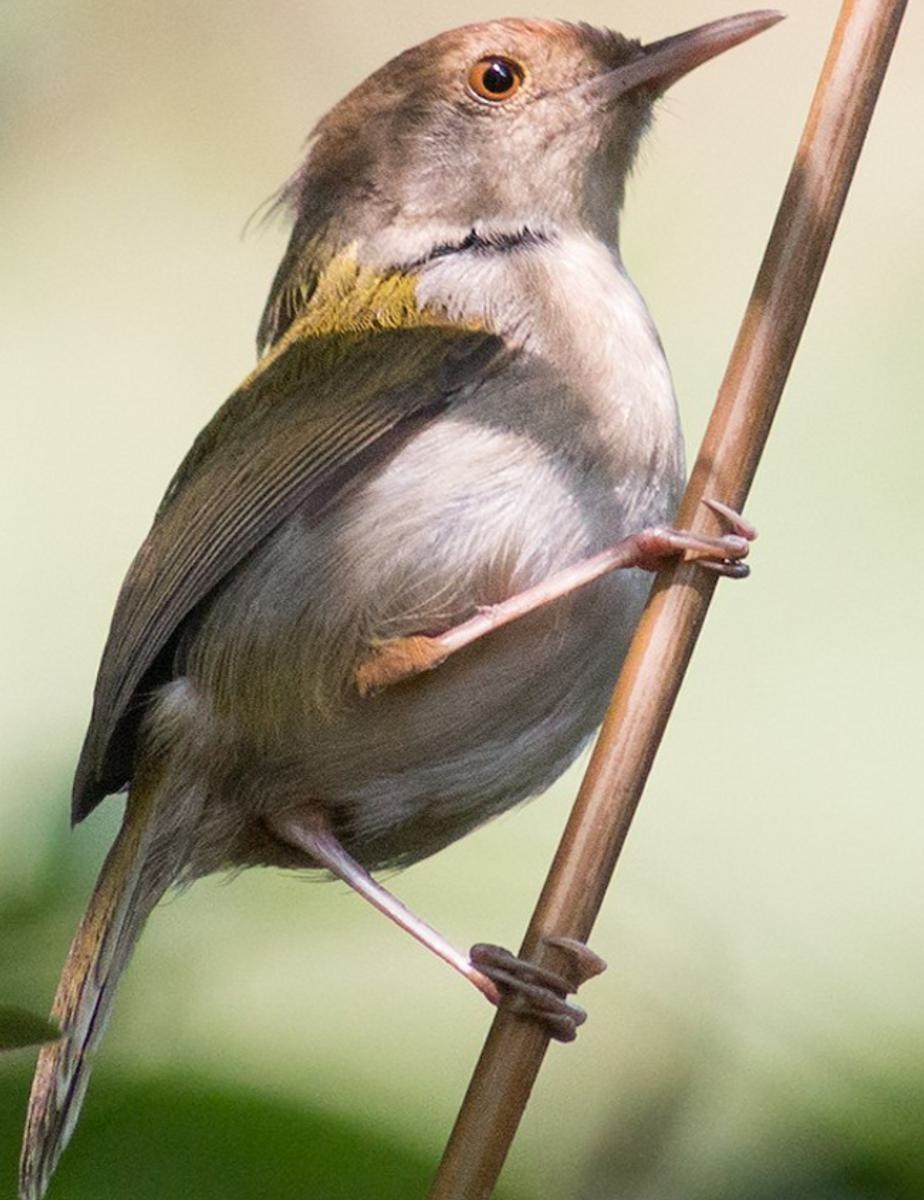tailorbird: (1, 5, 794, 1130)
